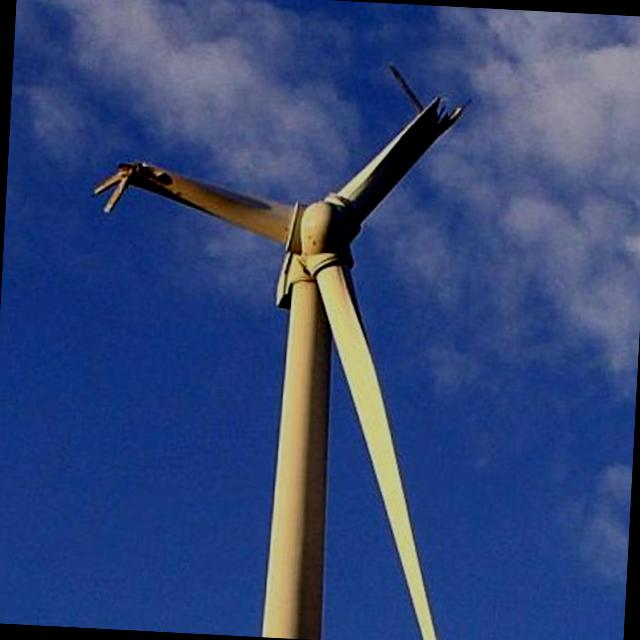crack: (370, 51, 480, 172), (64, 140, 173, 233)
